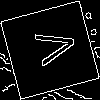V: (25, 25, 79, 69)
